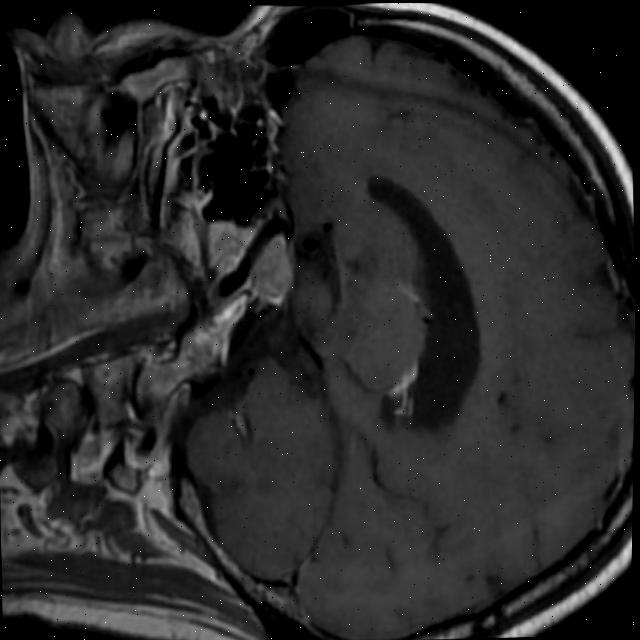Pituitary: (245, 231, 294, 307)
